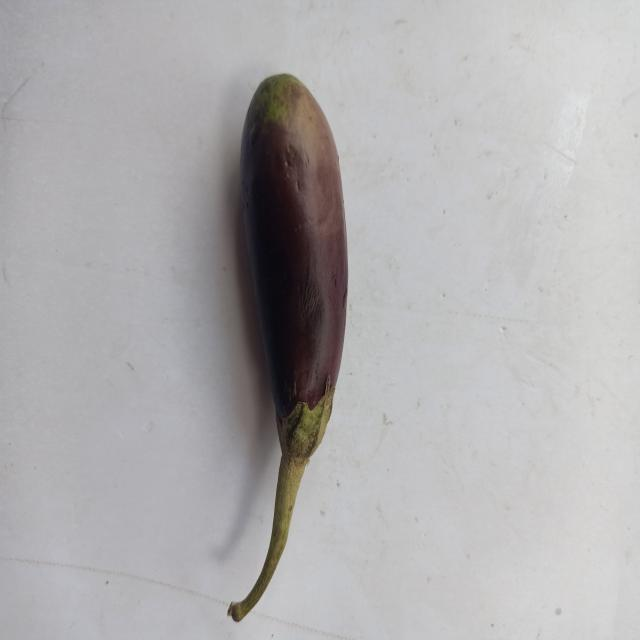Brinjal: (176, 59, 392, 634)
